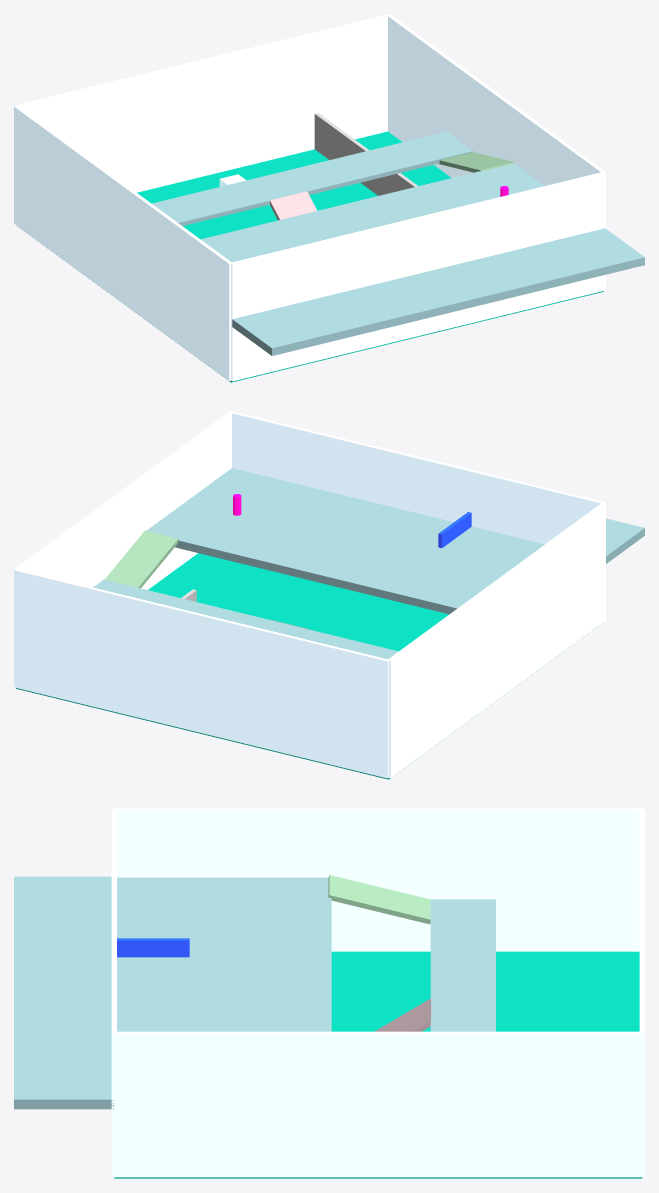
Rendered from secondArena.gltf.
The picture shows the model from 3 angles, top to bottom: view 1: azimuth 30°, elevation 25°; view 2: azimuth 150°, elevation 25°; view 3: azimuth 270°, elevation 25°; orthographic projection. The views are drawn at different scales.
Parts seen in each view (by area): view 1: Box (×10); view 2: Box (×9); view 3: Box (×10).
Part boxes in pixels (box(x1,y1,x2,y2)): Box (×10): box(14, 14, 644, 382); Box (×9): box(14, 411, 644, 779); Box (×10): box(14, 808, 644, 1178).
Size of the model in its own units: 101 by 30.5 by 119.
